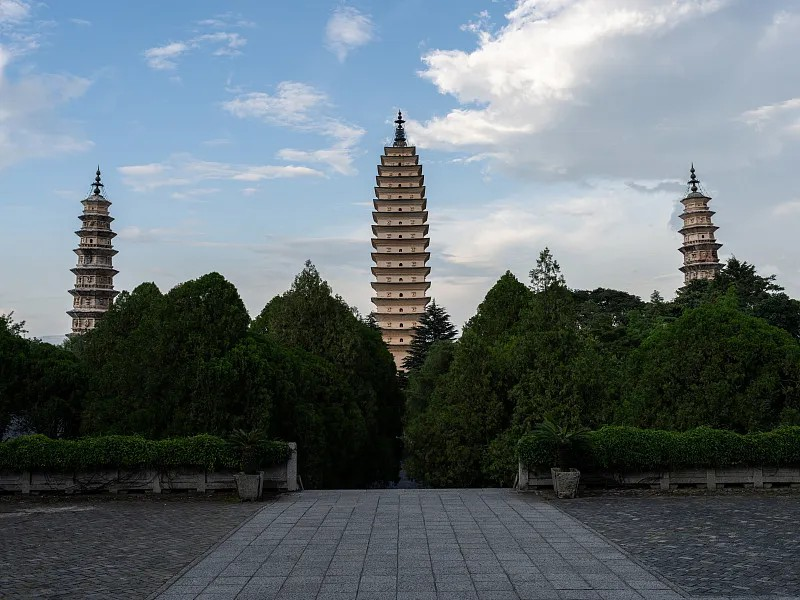ThreePagoda: (370, 109, 431, 369)
